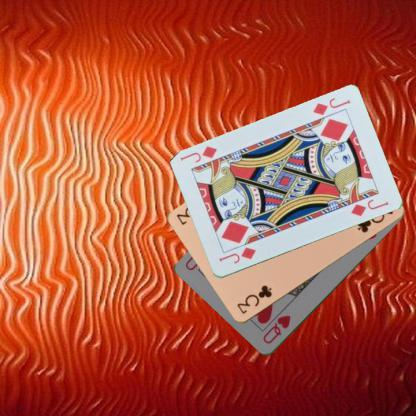3c: (234, 283, 273, 316)
Jd: (310, 96, 351, 118), (216, 245, 257, 266)
Qh: (260, 312, 292, 346)
